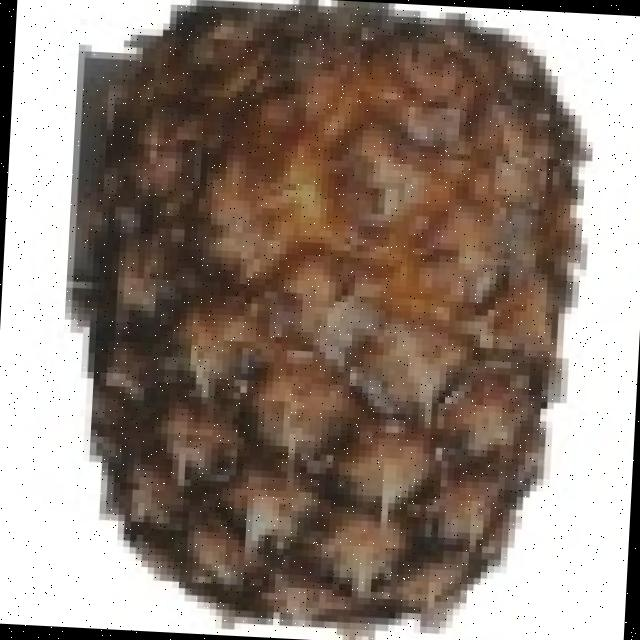pineapple: (84, 19, 591, 634)
